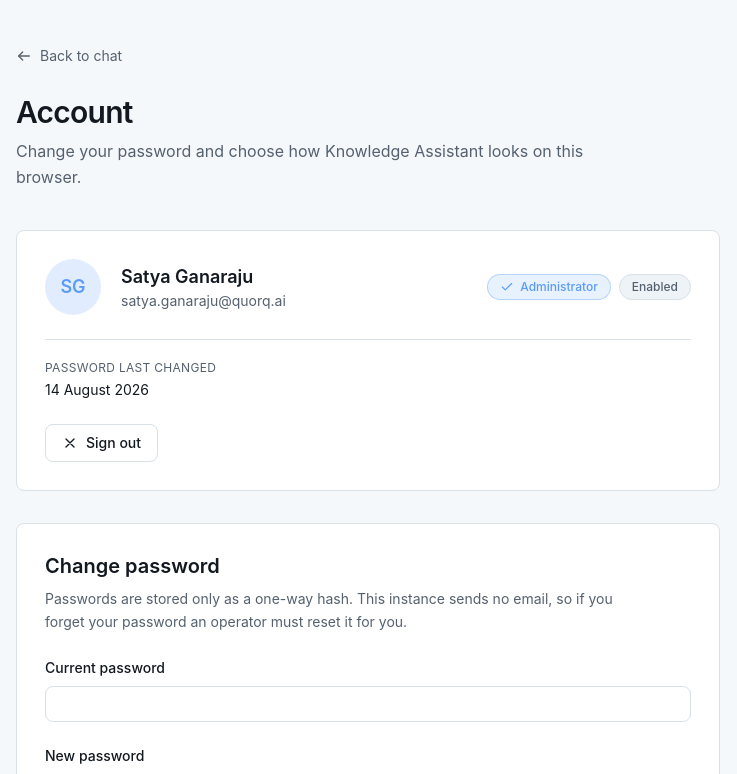
Account › AC-015: a wrong current password renders the server's field-scoped error inline, form not cleared
This screenshot has width=737, height=774.
Expected: the text "Satya Ganaraju" is shown, [121,266,253,287]
Type "wrong-password" into the password field labelled "Current password" at {"x": 368, "y": 704}, box [45,686,691,722]
(page scrolled)
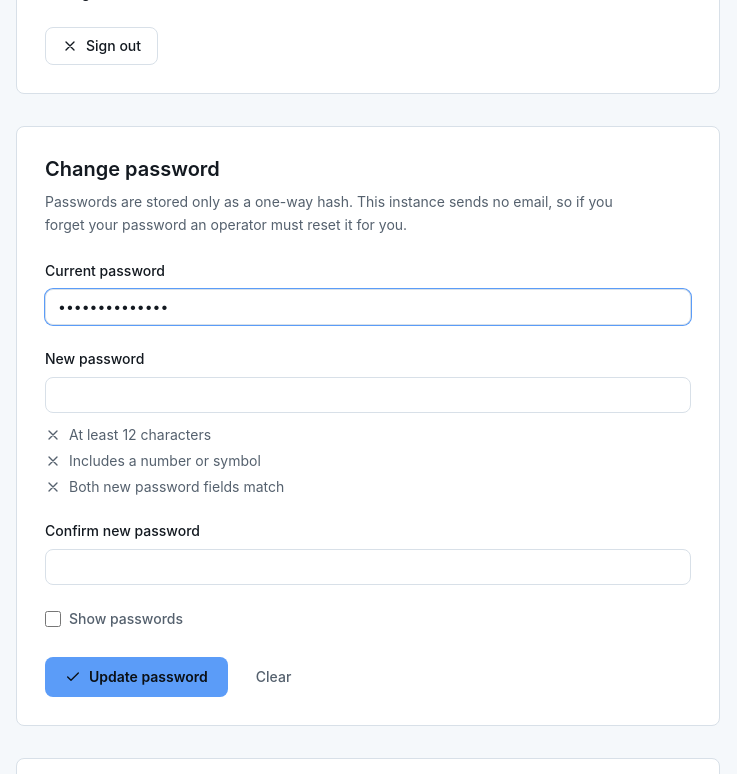
Type "new-password-456789" into the password field labelled "New password" at {"x": 368, "y": 394}, box [45,376,691,412]
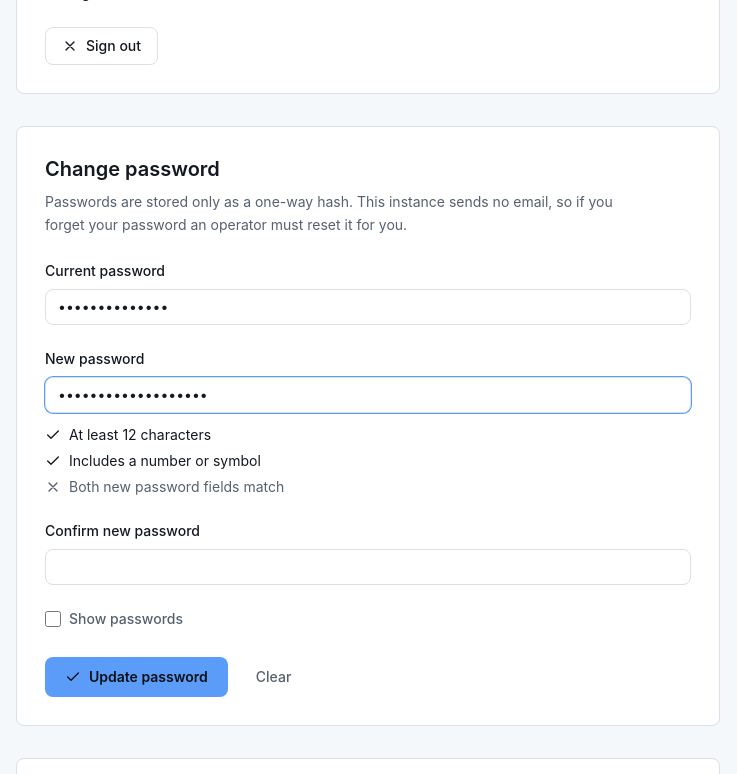
Type "new-password-456789" into the password field labelled "Confirm new password" at {"x": 368, "y": 566}, box [45,548,691,584]
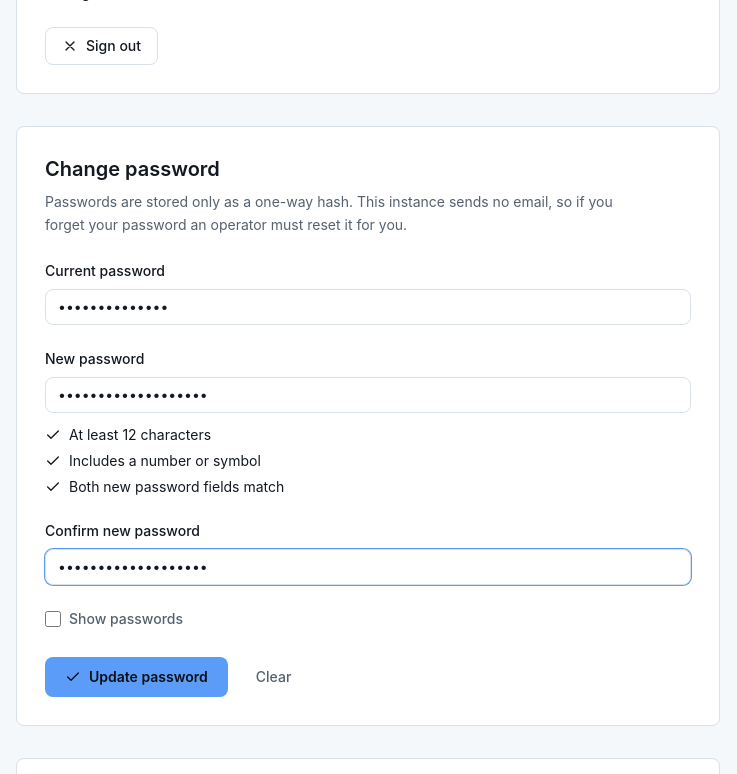
Click the button "Update password" at {"x": 136, "y": 676}, box [45,656,228,696]
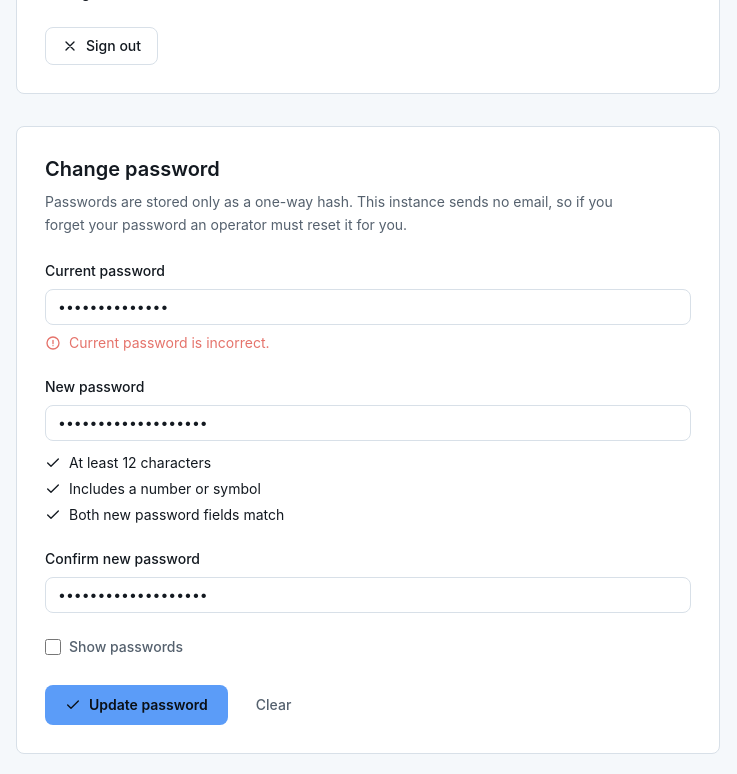
Expected: the text "Current password is incorrect." is shown, [69,332,270,352]
